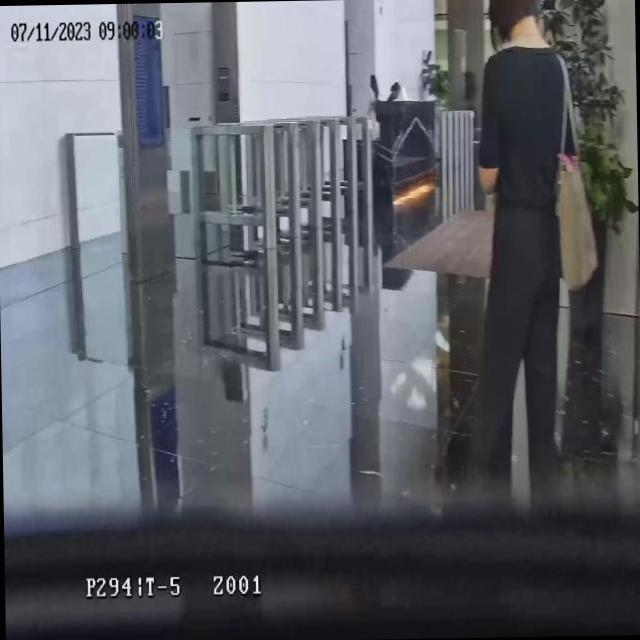person: (467, 0, 586, 496), (387, 82, 401, 102)
